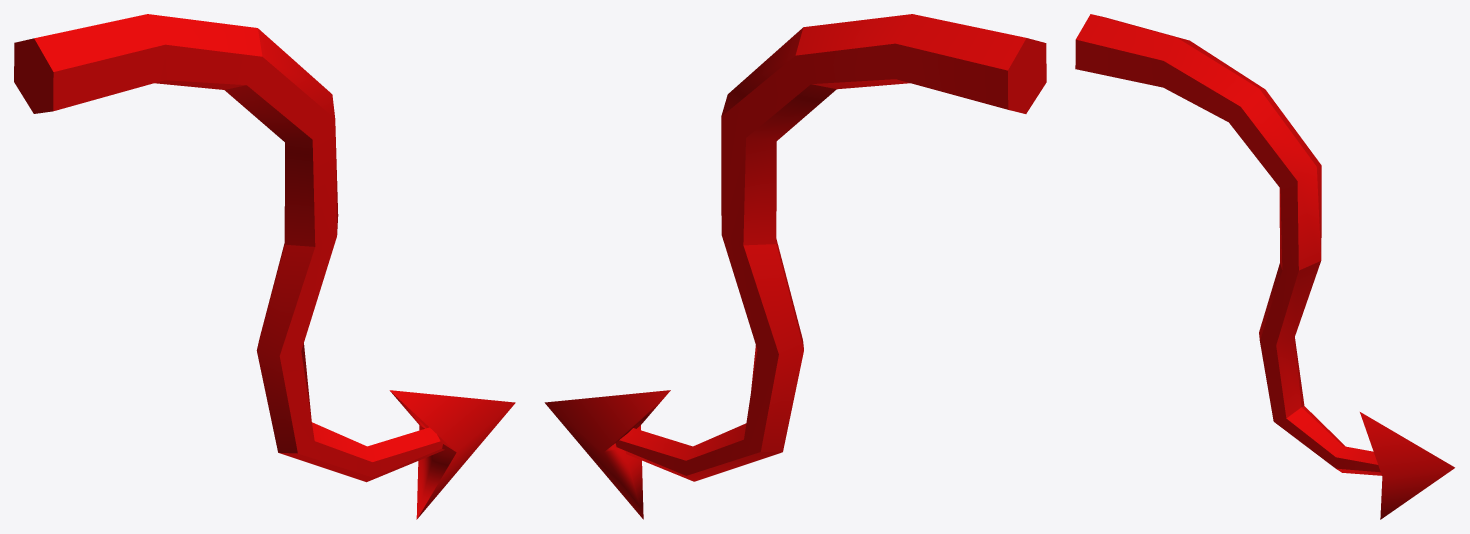
File: tail_devil.fbx
The picture shows the model from 3 angles, left to right: view 1: azimuth 30°, elevation 25°; view 2: azimuth 150°, elevation 25°; view 3: azimuth 330°, elevation 25°; orthographic projection. The views are drawn at different scales.
Parts seen in each view (by area): view 1: pCube52; view 2: pCube52; view 3: pCube52.
Boxes of the visible parts, x1,y1,x2,y2 form: pCube52: (14,14,515,519); pCube52: (544,14,1046,519); pCube52: (1075,14,1454,519).
Size of the model in its own units: 1.46 by 1.66 by 0.2026.
